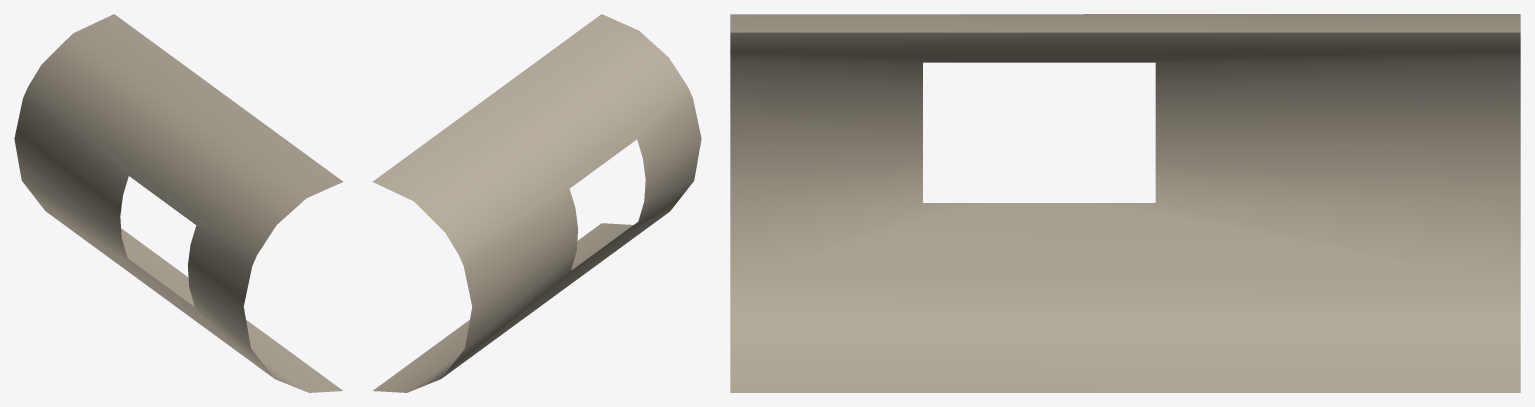
Rendered from original-33.obj.
The picture shows the model from 3 angles, left to right: view 1: azimuth 30°, elevation 25°; view 2: azimuth 150°, elevation 25°; view 3: azimuth 270°, elevation 25°; orthographic projection. The views are drawn at different scales.
Visible parts, largest first — view 1: Group33/mesh33/mesh33-geometry#mesh33-geometry; view 2: Group33/mesh33/mesh33-geometry#mesh33-geometry; view 3: Group33/mesh33/mesh33-geometry#mesh33-geometry.
Boxes of the visible parts, x1,y1,x2,y2 form: Group33/mesh33/mesh33-geometry#mesh33-geometry: [14, 14, 343, 392]; Group33/mesh33/mesh33-geometry#mesh33-geometry: [372, 14, 701, 392]; Group33/mesh33/mesh33-geometry#mesh33-geometry: [730, 14, 1520, 392].
Bounding box in the file's own units: 0.0512 × 0.1024 × 0.2036.
